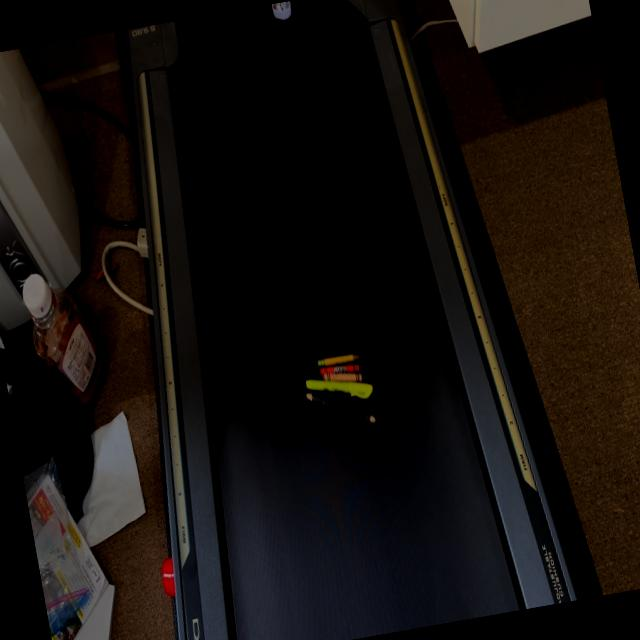Trash: (294, 342, 384, 439)
